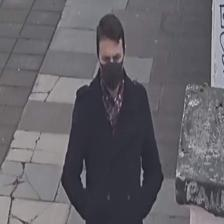person: (60, 13, 164, 224)
